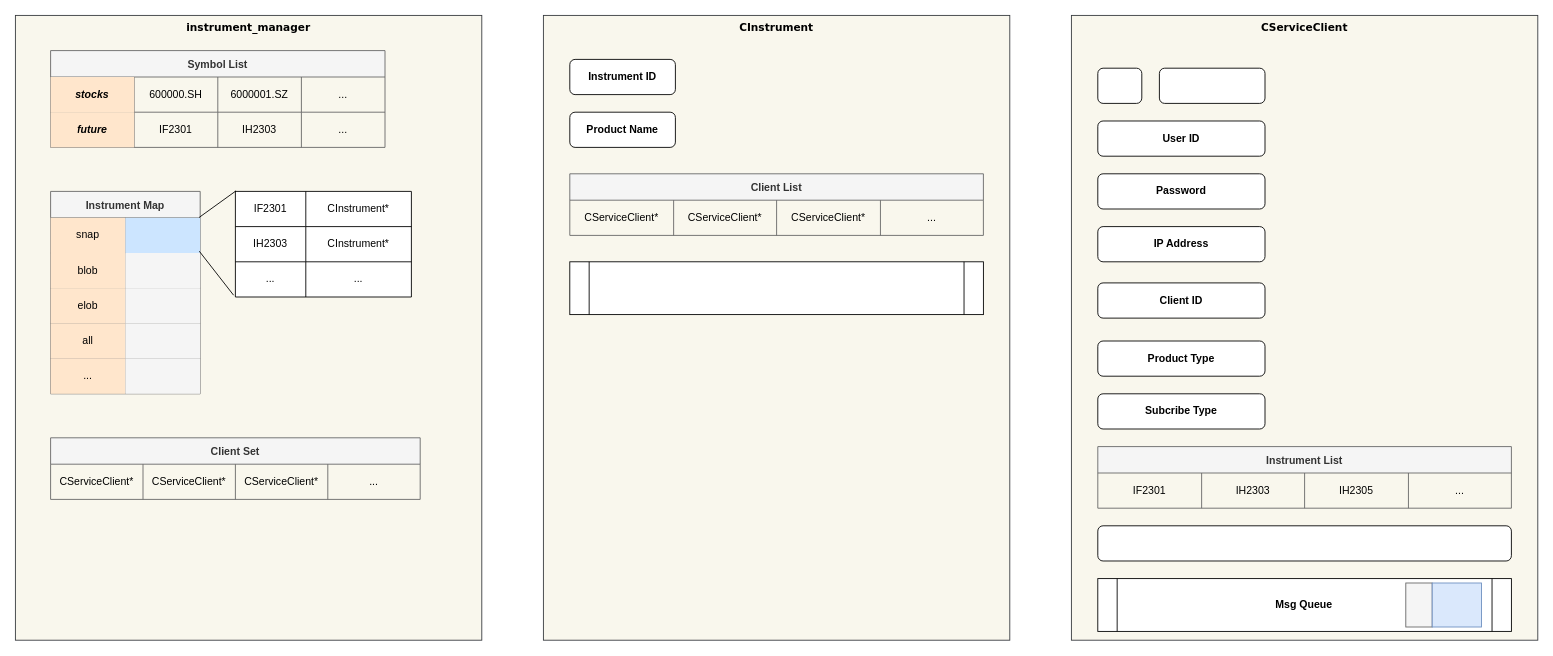
Some shapes in this 1553 by 656 pixel diagram are drawn without their labels. The centre of each missing label's shape, as x and y in pixels:
"buf" belongs at point (1456, 604).
"FD" belongs at point (1119, 85).
"Market Data Buffer" belongs at point (776, 288).
"Publish Thread" belongs at point (1304, 543).
"Service Type" belongs at point (1212, 85).
"size" belongs at point (1418, 604).
